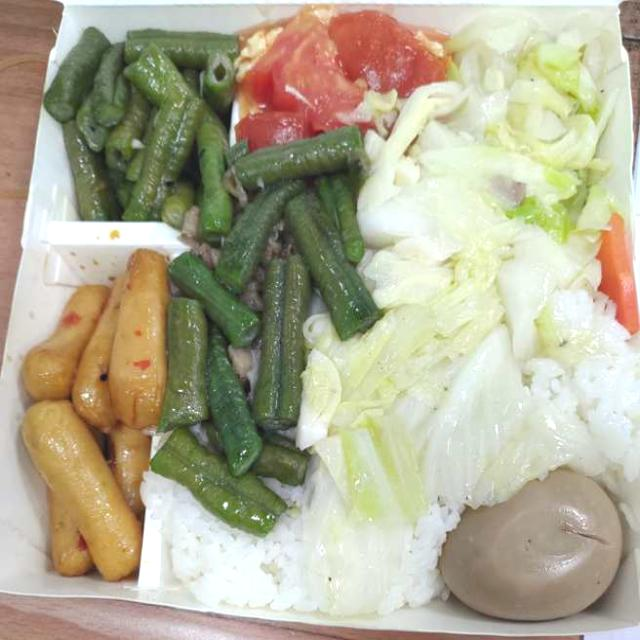Scramble Egg with Tomatoes: (245, 26, 376, 118)
braised egg: (403, 486, 617, 620)
cabbage: (373, 58, 590, 472)
